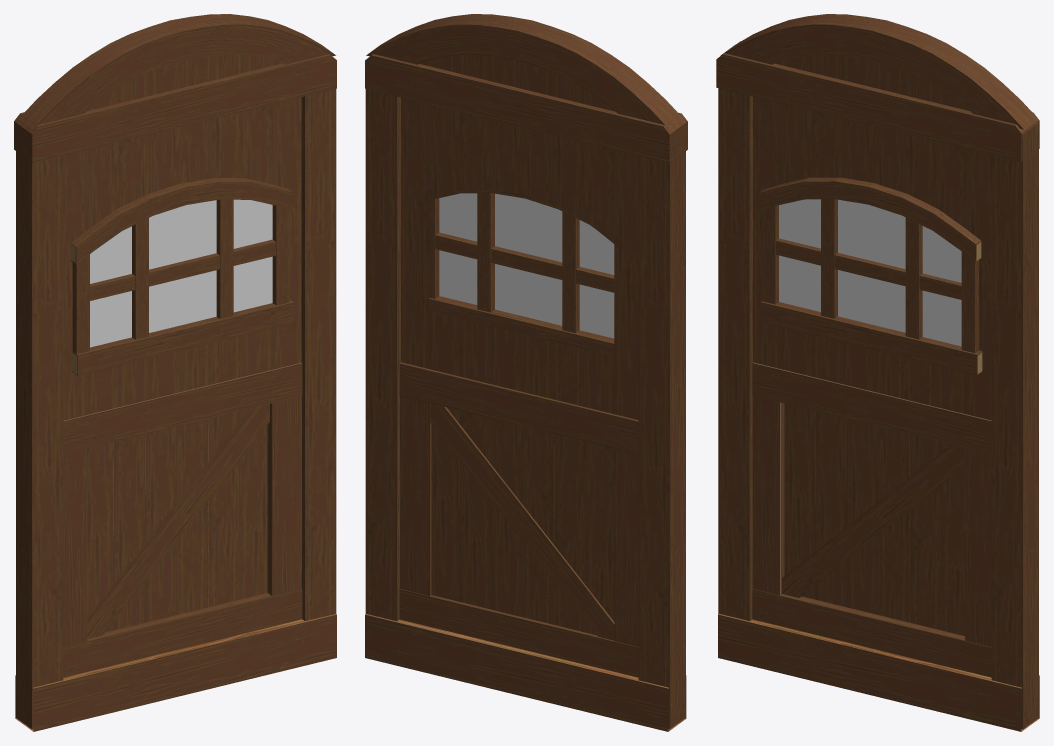
The model's file is gate-qm-door1round.glb.
3 views of the same model, side by side, from view 1: azimuth 30°, elevation 25°; view 2: azimuth 150°, elevation 25°; view 3: azimuth 330°, elevation 25° (orthographic).
Visible parts, largest first — view 1: Cube_235; view 2: Cube_235; view 3: Cube_235.
Boxes of the visible parts, <box> form: Cube_235: <box>14,14,336,731</box>; Cube_235: <box>365,14,687,731</box>; Cube_235: <box>716,14,1039,731</box>.
Bounding box in the file's own units: 1.12 × 2.32 × 0.1207.
2 materials, 1 textured.
